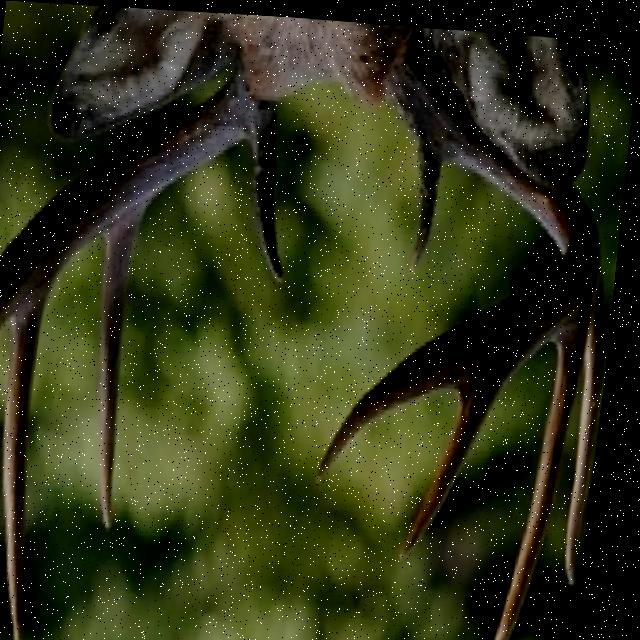L-G1: (250, 110, 289, 283)
L-G2: (105, 210, 147, 530)
L-G3: (12, 282, 57, 640)
R-F: (325, 23, 606, 479)
R-G1: (414, 137, 447, 271)
R-G3: (504, 304, 597, 640)
R-G4: (406, 370, 516, 554)
